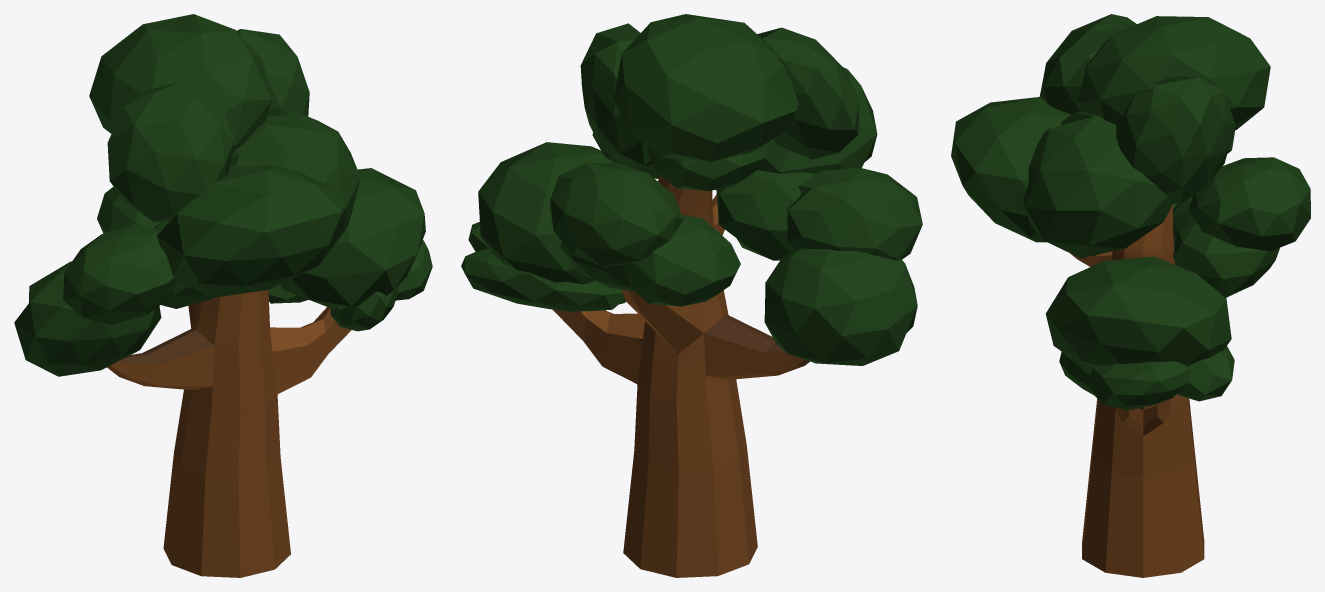
File: tree1.fbx
The picture shows the model from 3 angles, left to right: view 1: azimuth 30°, elevation 25°; view 2: azimuth 150°, elevation 25°; view 3: azimuth 270°, elevation 25°; orthographic projection. The views are drawn at different scales.
Visible parts, largest first — view 1: pCylinder38; view 2: pCylinder38; view 3: pCylinder38.
Boxes of the visible parts, x1,y1,x2,y2 form: pCylinder38: [14, 14, 432, 577]; pCylinder38: [461, 14, 922, 577]; pCylinder38: [951, 14, 1310, 577].
Bounding box in the file's own units: 1.75 × 2.13 × 1.34.
